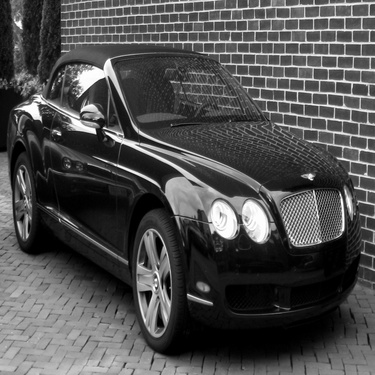car: (3, 33, 369, 359)
